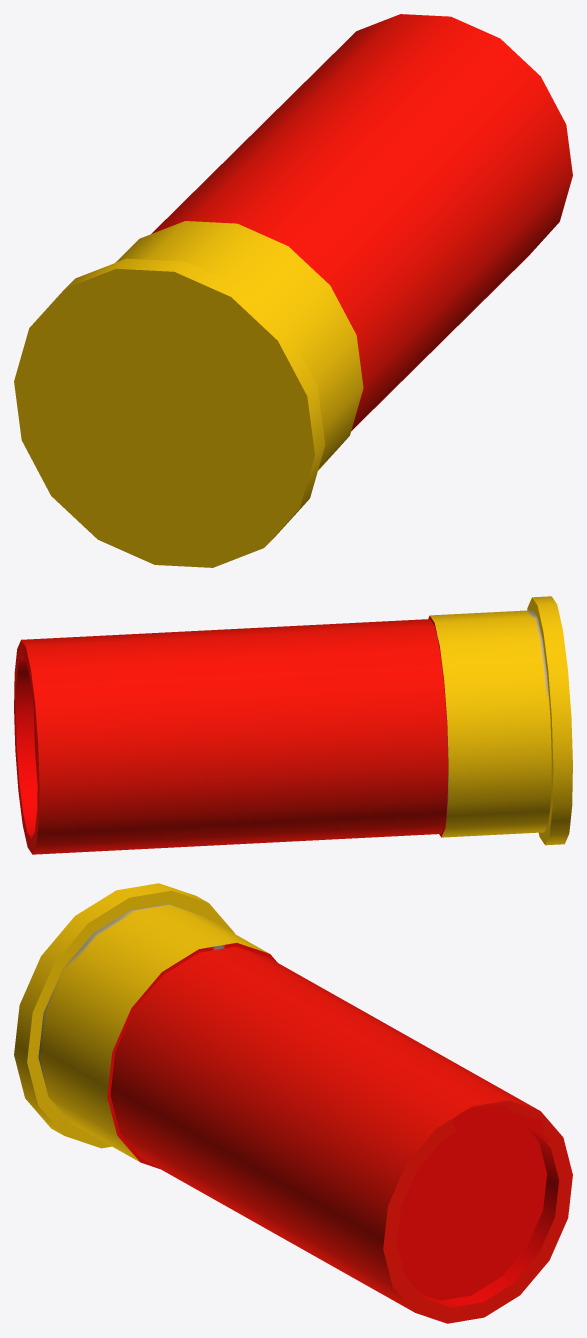
The model's file is FlareShell.fbx.
The picture shows the model from 3 angles, top to bottom: view 1: azimuth 30°, elevation 25°; view 2: azimuth 150°, elevation 25°; view 3: azimuth 270°, elevation 25°; orthographic projection. The views are drawn at different scales.
Visible parts, largest first — view 1: shell; view 2: shell; view 3: shell.
Part boxes in pixels (<box>): shell: <box>14,14,572,567</box>; shell: <box>14,596,572,854</box>; shell: <box>14,883,572,1323</box>.
Bounding box in the file's own units: 10.54 × 4.61 × 9.4.
